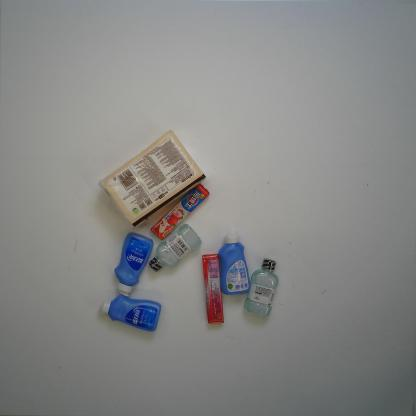Candy: (150, 182, 210, 241), (201, 253, 225, 325)
Personal Hygiene: (148, 223, 203, 274), (112, 232, 154, 298), (99, 295, 163, 332), (216, 230, 251, 296), (243, 256, 279, 319)
Tissue: (97, 129, 207, 230)
